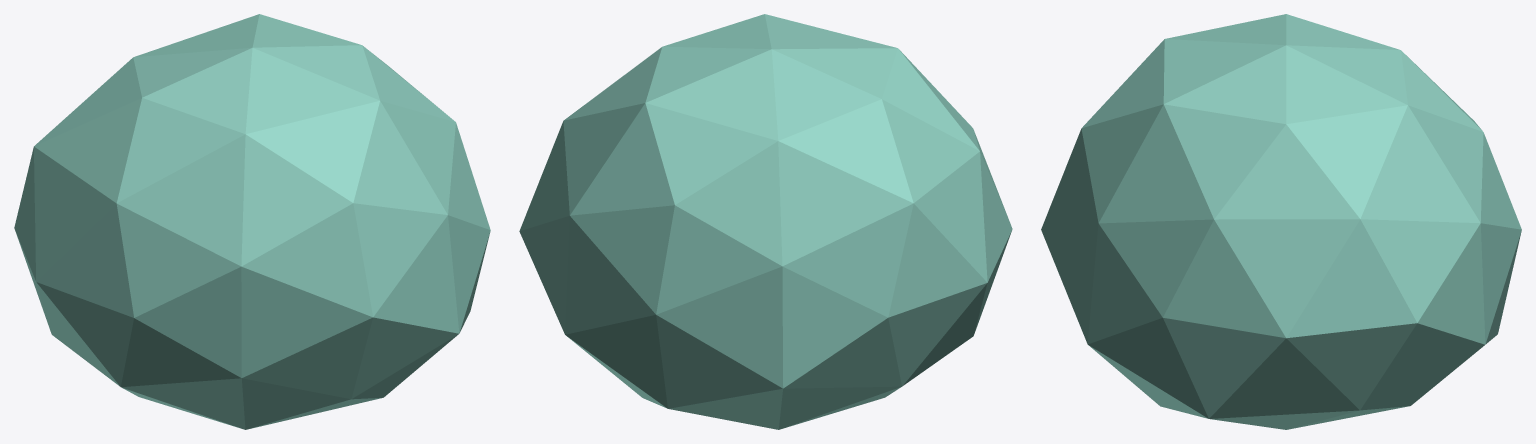
Rendered from slime_body.glb.
3 renders of one model, left to right at view 1: azimuth 30°, elevation 25°; view 2: azimuth 150°, elevation 25°; view 3: azimuth 270°, elevation 25°, orthographic.
Visible parts, largest first — view 1: slime_body; view 2: slime_body; view 3: slime_body.
Part boxes in pixels (x1,y1,x2,y2): slime_body: (14, 14, 490, 429); slime_body: (519, 14, 1012, 429); slime_body: (1041, 14, 1521, 429).
Size of the model in its own units: 0.68 by 0.48 by 0.64.
